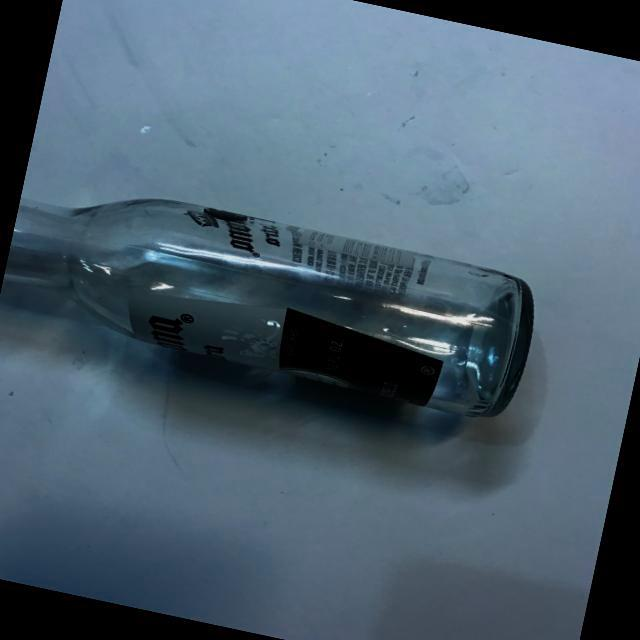glass: (0, 156, 553, 441)
